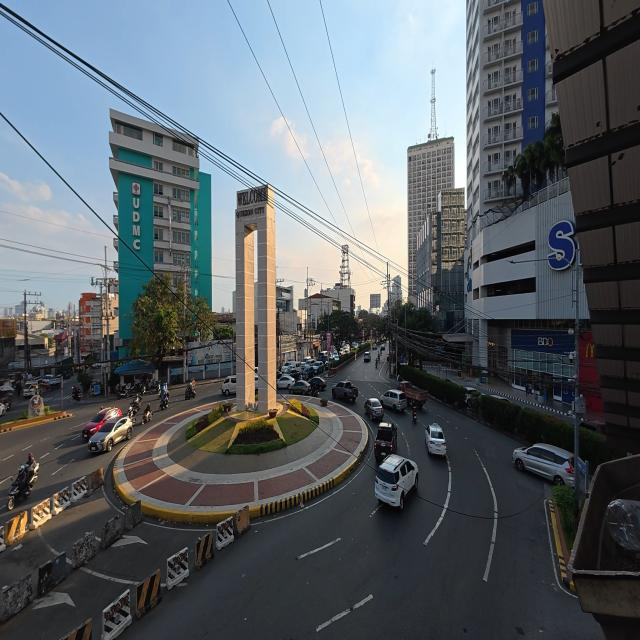car: (513, 444, 574, 486), (375, 455, 418, 510), (89, 417, 132, 452), (82, 408, 122, 441), (425, 423, 446, 455), (365, 398, 383, 419), (289, 380, 311, 395), (465, 387, 480, 403), (309, 376, 326, 390), (277, 375, 295, 388), (312, 360, 324, 375), (490, 395, 512, 403), (281, 365, 291, 375), (304, 356, 313, 363), (364, 352, 370, 362), (333, 352, 339, 361), (352, 342, 358, 348), (380, 344, 385, 351), (372, 345, 377, 350)
motorcycle: (8, 463, 39, 510), (128, 395, 141, 422), (116, 384, 130, 398), (142, 405, 152, 424), (130, 394, 141, 411), (128, 406, 137, 424), (159, 395, 169, 411), (185, 385, 195, 400), (158, 384, 167, 399), (90, 385, 102, 396), (72, 388, 82, 401), (154, 383, 161, 399), (311, 385, 319, 397), (412, 407, 416, 422), (376, 360, 378, 369)
trucks: (374, 423, 397, 463), (398, 381, 428, 408), (332, 381, 358, 401)
vans: (381, 390, 406, 411), (24, 382, 37, 397), (290, 362, 303, 372), (319, 351, 328, 358), (255, 375, 258, 391)
